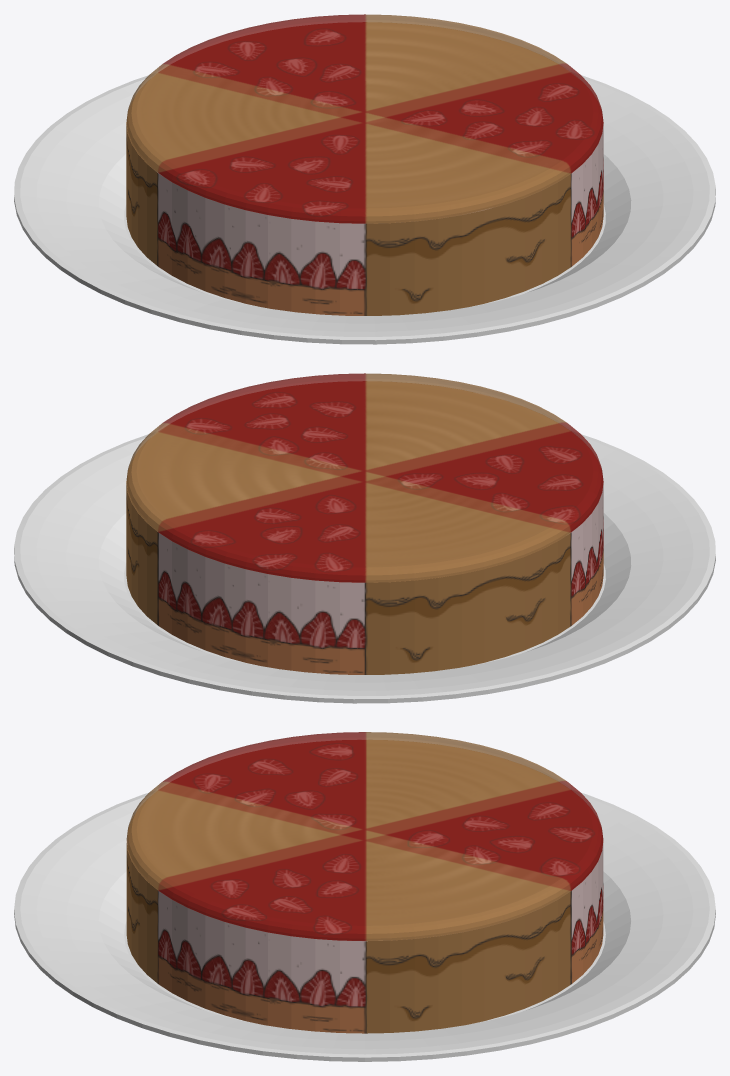
Rendered from torta farba.fbx.
The picture shows the model from 3 angles, top to bottom: view 1: azimuth 30°, elevation 25°; view 2: azimuth 150°, elevation 25°; view 3: azimuth 270°, elevation 25°; orthographic projection.
Visible parts, largest first — view 1: torta, poleva, Cylinder; view 2: torta, poleva, Cylinder; view 3: torta, poleva, Cylinder.
Part boxes in pixels (box(x1,y1,x2,y2)): torta: box(126, 22, 603, 315); poleva: box(126, 14, 603, 223); Cylinder: box(14, 73, 715, 344); torta: box(126, 381, 603, 674); poleva: box(126, 373, 603, 582); Cylinder: box(14, 432, 715, 703); torta: box(126, 740, 603, 1033); poleva: box(126, 732, 603, 940); Cylinder: box(14, 790, 715, 1061).
Bounding box in the file's own units: 63.36 × 11.3 × 63.36.
Materials: 2 (2 with a texture image).
